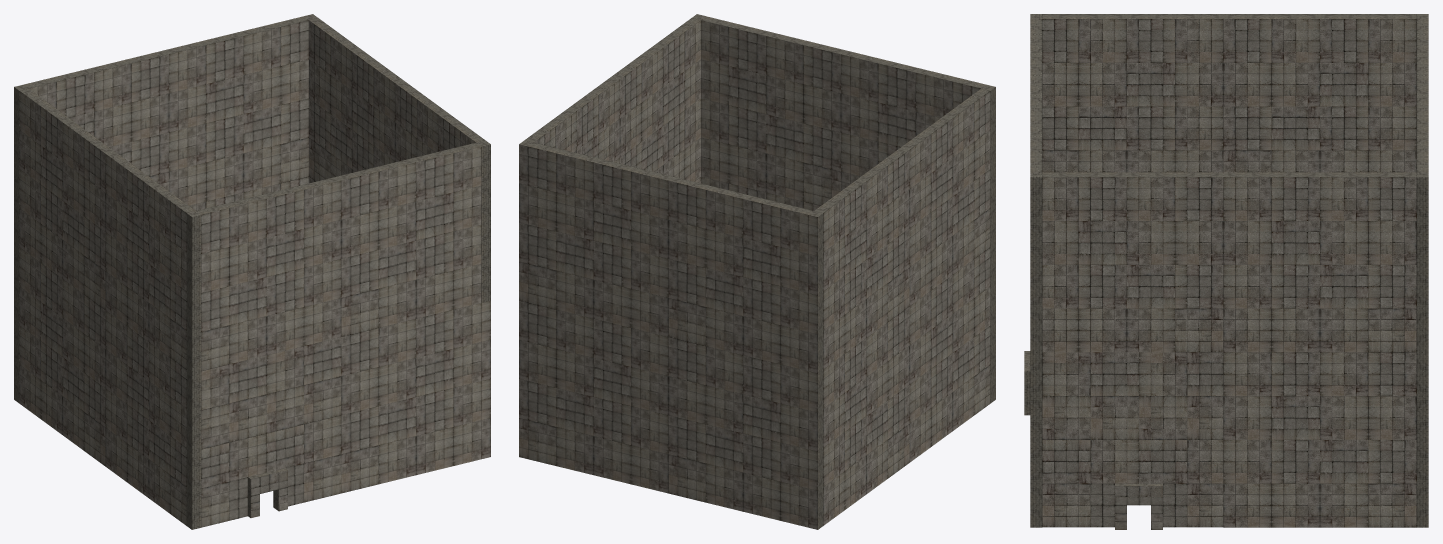
File: Stage2Wall.fbx
3 renders of one model, left to right at view 1: azimuth 30°, elevation 25°; view 2: azimuth 150°, elevation 25°; view 3: azimuth 270°, elevation 25°, orthographic. The views are drawn at different scales.
Visible parts, largest first — view 1: BB_16x16x147, BB_16x16x146, BB_16x16x148, BB_16x16x155, BB_16x16x151, BB_16x16x152, BB_16x16x149, BB_16x16x150, BB_8x16x1, BB_16x16x156, BB_16x16x143, BB_16x16x144 (+6 smaller); view 2: BB_16x16x156, BB_16x16x154, BB_16x16x155, BB_16x16x153, BB_16x16x148, BB_16x16x152, BB_16x16x150, BB_16x16x151, BB_16x16x149, BB_16x16x147, BB_16x16x144, BB_16x16x143 (+1 smaller); view 3: BB_16x16x143, BB_16x16x136, BB_16x16x144, BB_16x16x152, BB_16x16x151, BB_8x16x002, BB_4x8x004, BB_4x8x003, BB_16x16x155, BB_16x16x148, BB_16x16x153, BB_16x16x146 (+11 smaller).
Boxes of the visible parts, x1,y1,x2,y2 form: BB_16x16x147: (186, 177, 341, 373); BB_16x16x146: (341, 300, 490, 493); BB_16x16x148: (336, 140, 489, 336); BB_16x16x155: (164, 14, 317, 205); BB_16x16x151: (105, 152, 201, 373); BB_16x16x152: (19, 88, 114, 309); BB_16x16x149: (105, 310, 201, 529); BB_16x16x150: (19, 248, 105, 466); BB_8x16x1: (186, 337, 341, 451); BB_16x16x156: (14, 50, 168, 246); BB_16x16x143: (309, 18, 404, 181); BB_16x16x144: (395, 81, 490, 302); BB_16x16x156: (668, 177, 823, 373); BB_16x16x154: (668, 337, 823, 529); BB_16x16x155: (519, 140, 673, 336); BB_16x16x153: (519, 300, 668, 493); BB_16x16x148: (692, 14, 845, 205); BB_16x16x152: (814, 148, 909, 369); BB_16x16x150: (823, 306, 909, 525); BB_16x16x151: (900, 84, 995, 305); BB_16x16x149: (909, 248, 990, 462); BB_16x16x147: (841, 50, 995, 246); BB_16x16x144: (611, 14, 705, 181); BB_16x16x143: (525, 77, 619, 163); BB_16x16x143: (1223, 172, 1416, 352); BB_16x16x136: (1223, 352, 1416, 527); BB_16x16x144: (1030, 172, 1223, 352); BB_16x16x152: (1223, 14, 1416, 172); BB_16x16x151: (1030, 14, 1223, 172); BB_8x16x002: (1042, 352, 1223, 439); BB_4x8x004: (1042, 440, 1138, 483); BB_4x8x003: (1139, 440, 1223, 483); BB_16x16x155: (1416, 95, 1428, 352); BB_16x16x148: (1030, 95, 1042, 352); BB_16x16x153: (1416, 352, 1428, 527); BB_16x16x146: (1030, 352, 1042, 527).
Bounding box in the file's own units: 3248 × 3351 × 3200.
Materials: 1 (1 with a texture image).
